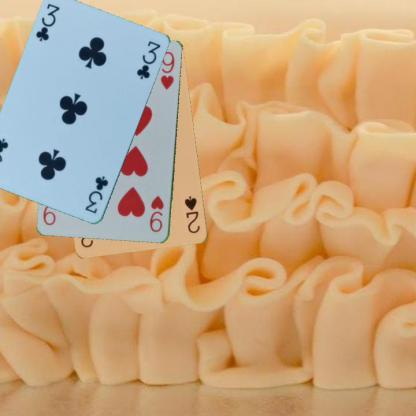2s: (182, 194, 202, 236)
3c: (32, 1, 62, 43), (82, 173, 110, 215)
9h: (146, 192, 166, 233)
